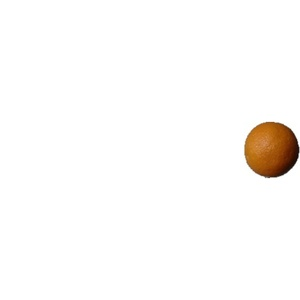laranja: (241, 120, 299, 178)
